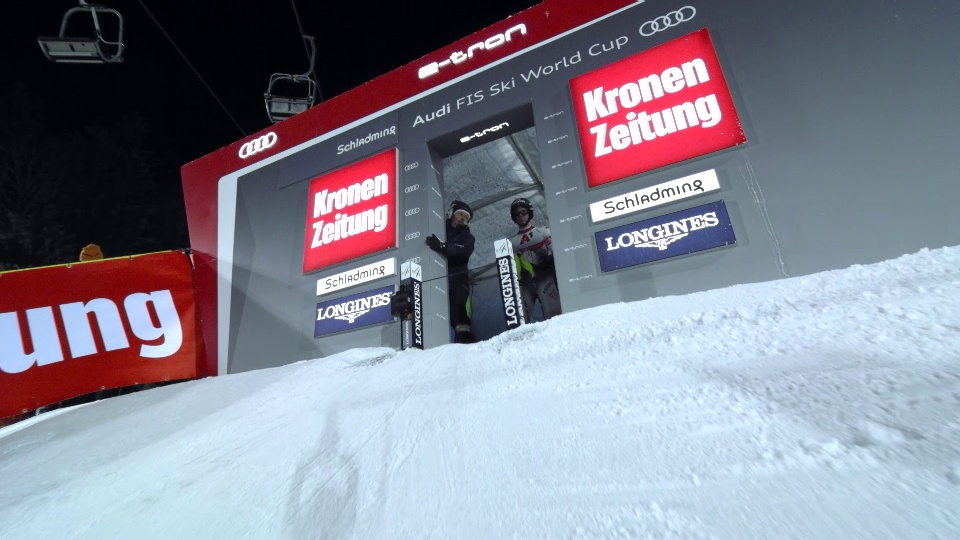a1: (518, 229, 536, 246)
audi: (639, 5, 694, 40), (237, 129, 278, 164), (404, 206, 428, 219), (404, 183, 427, 196), (404, 162, 426, 175)
etron: (410, 18, 542, 77), (547, 159, 575, 172)
kronenzeitung: (9, 270, 186, 413), (583, 54, 723, 169), (301, 170, 397, 259)
longines: (603, 208, 724, 262), (314, 289, 402, 333), (500, 258, 522, 330), (413, 284, 426, 350)
schladming: (597, 176, 712, 215), (315, 256, 394, 295)
